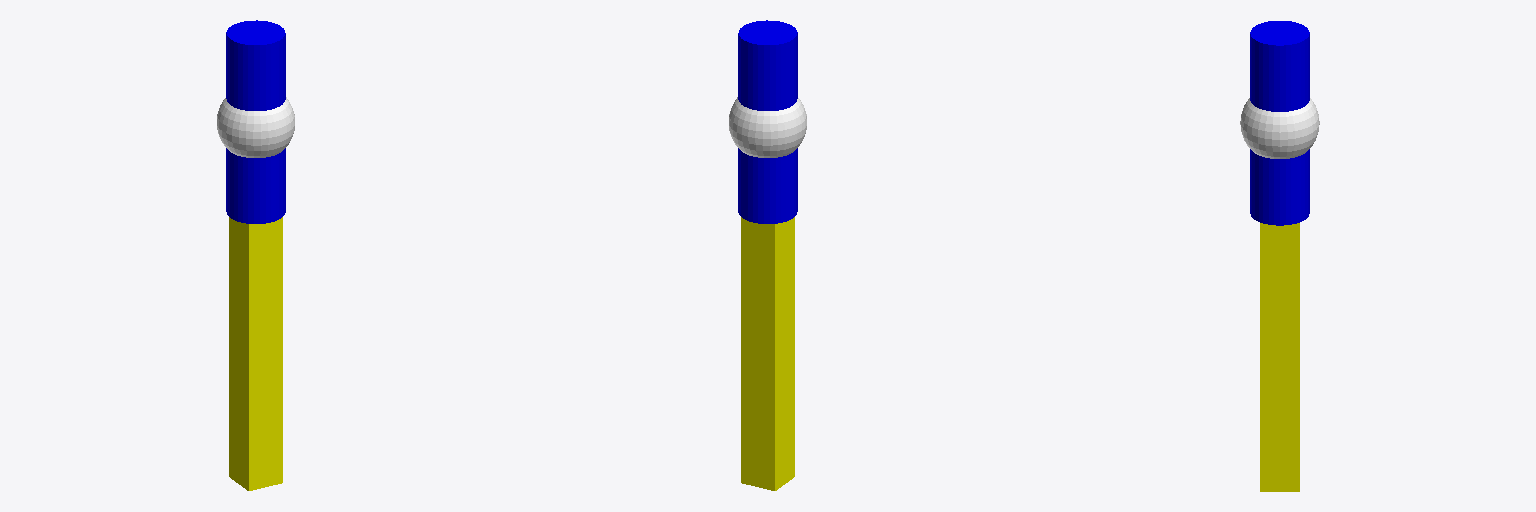
The robot description file, URDF, robot "pan_tilt":
<?xml version="1.0"?>
<robot name="pan_tilt">

	<!-- definire culori -->
	<material name="white">
		<color rgba="1 1 1 0.3"/>
	</material>

	<material name="blue">
		<color rgba="0 0 1 0.5"/>
	</material>

	<material name="yellow">
		<color rgba="1 1 0 1"/>
	</material>

	<material name="red">
		<color rgba="1 0 0 0.8"/>
	</material>


	<!-- baza robotului -->
	<link name="base_link">

		<!-- baza robotului VIZUAL-->
		<visual>

			<!-- baza robotului GEOMETRIE-->
			<geometry>
				<mesh filename="package://robotel/meshes/baza.STL"/>
				<!-- <box size="1 1 0.05"/> -->
			</geometry>
			<material name="red"/>
			<origin rpy="0 0 0" xyz="0 0 0.025"/>

		</visual>

	</link>


	<!-- element de tip pan -->
	<link name="pan_link">

		<!-- baza robotului VIZUAL-->
		<visual>

			<!-- baza robotului GEOMETRIE-->
			<geometry>
				<box size="0.1 0.1 1"/>
			</geometry>
			<material name="yellow"/>
			<origin rpy="0 0 0" xyz="0 0 0.5"/>
		</visual>

	</link>

	<!-- element de tip sfera -->
	<link name="sphere_link">

		<!-- baza robotului VIZUAL-->
		<visual>

			<!-- baza robotului GEOMETRIE-->
			<geometry>
				<sphere radius="0.1"/>
			</geometry>
			<material name="white"/>
			<origin rpy="0 0 0" xyz="0 0 0"/>
		</visual>

	</link>

	<!-- element de tip tilt -->
	<link name="tilt_link">

		<!-- baza robotului VIZUAL-->
		<visual>

			<!-- baza robotului GEOMETRIE-->
			<geometry>
				<cylinder length="0.5" radius="0.075"/>
			</geometry>
			<material name="blue"/>
			<origin rpy="0 0 0" xyz="0 0 0"/>
		</visual>

	</link>


	<!--CUPLE: baza robotului & paralelipiped -->
	<joint name="pan_joint" type="revolute">
		<parent link="base_link"/>
		<child link="pan_link"/>

		<origin xyz="0 0 0.05"/>
		<axis xyz="0 0 1" />
		<limit effort="300" velocity="0.1" lower="-3.14" upper="3.14"/>
	</joint>

	<!--CUPLE: paralelipiped & sfera -->
	<joint name="sphere_joint" type="fixed">
		<parent link="pan_link"/>
		<child link="sphere_link"/>

		<origin xyz="0 0 1"/>
	</joint>

	<!--CUPLE: element pan & element tilt -->
	<joint name="tilt_joint" type="revolute">
		<parent link="pan_link"/>
		<child link="tilt_link"/>

		<origin xyz="0 0 1"/>
		<!-- e relativa distanta de la originea link1 la link2 -->
		<axis xyz="0 1 0" />
		<limit effort="300" velocity="0.1" lower="0" upper="3.14"/>
	</joint>

</robot>

--- What the picture shows (computed from the rendered views, not written in the file) ---
The picture shows the robot from 3 angles, left to right: view 1: azimuth 30°, elevation 25°; view 2: azimuth 150°, elevation 25°; view 3: azimuth 270°, elevation 25°; orthographic projection.
Model pan_tilt with 4 links and 3 joints (2 revolute, 1 fixed), rooted at base_link, posed every joint at zero.
Links seen in each view (by area): view 1: pan_link, tilt_link, sphere_link; view 2: pan_link, tilt_link, sphere_link; view 3: pan_link, tilt_link, sphere_link.
Boxes of the visible links, x1=… form: pan_link: x1=229, y1=217, x2=282, y2=490; tilt_link: x1=226, y1=20, x2=285, y2=223; sphere_link: x1=217, y1=97, x2=294, y2=157; pan_link: x1=741, y1=217, x2=794, y2=490; tilt_link: x1=738, y1=20, x2=797, y2=223; sphere_link: x1=729, y1=97, x2=806, y2=157; pan_link: x1=1260, y1=223, x2=1299, y2=491; tilt_link: x1=1250, y1=21, x2=1309, y2=225; sphere_link: x1=1240, y1=98, x2=1319, y2=158.
Bounding box of the posed robot: 0.2 × 0.2 × 1.25 m (x, y, z).
Meshes: 1 distinct files referenced, 0 mesh visuals loaded (none loaded); not drawn: 1 (reference not matched to a file when rendering).